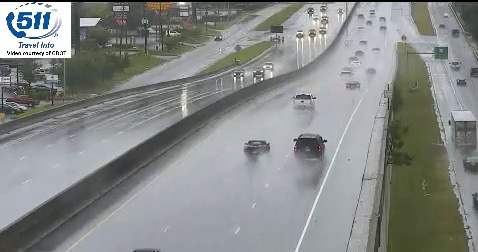car: (293, 134, 325, 154), (244, 140, 269, 156), (293, 93, 315, 109)
